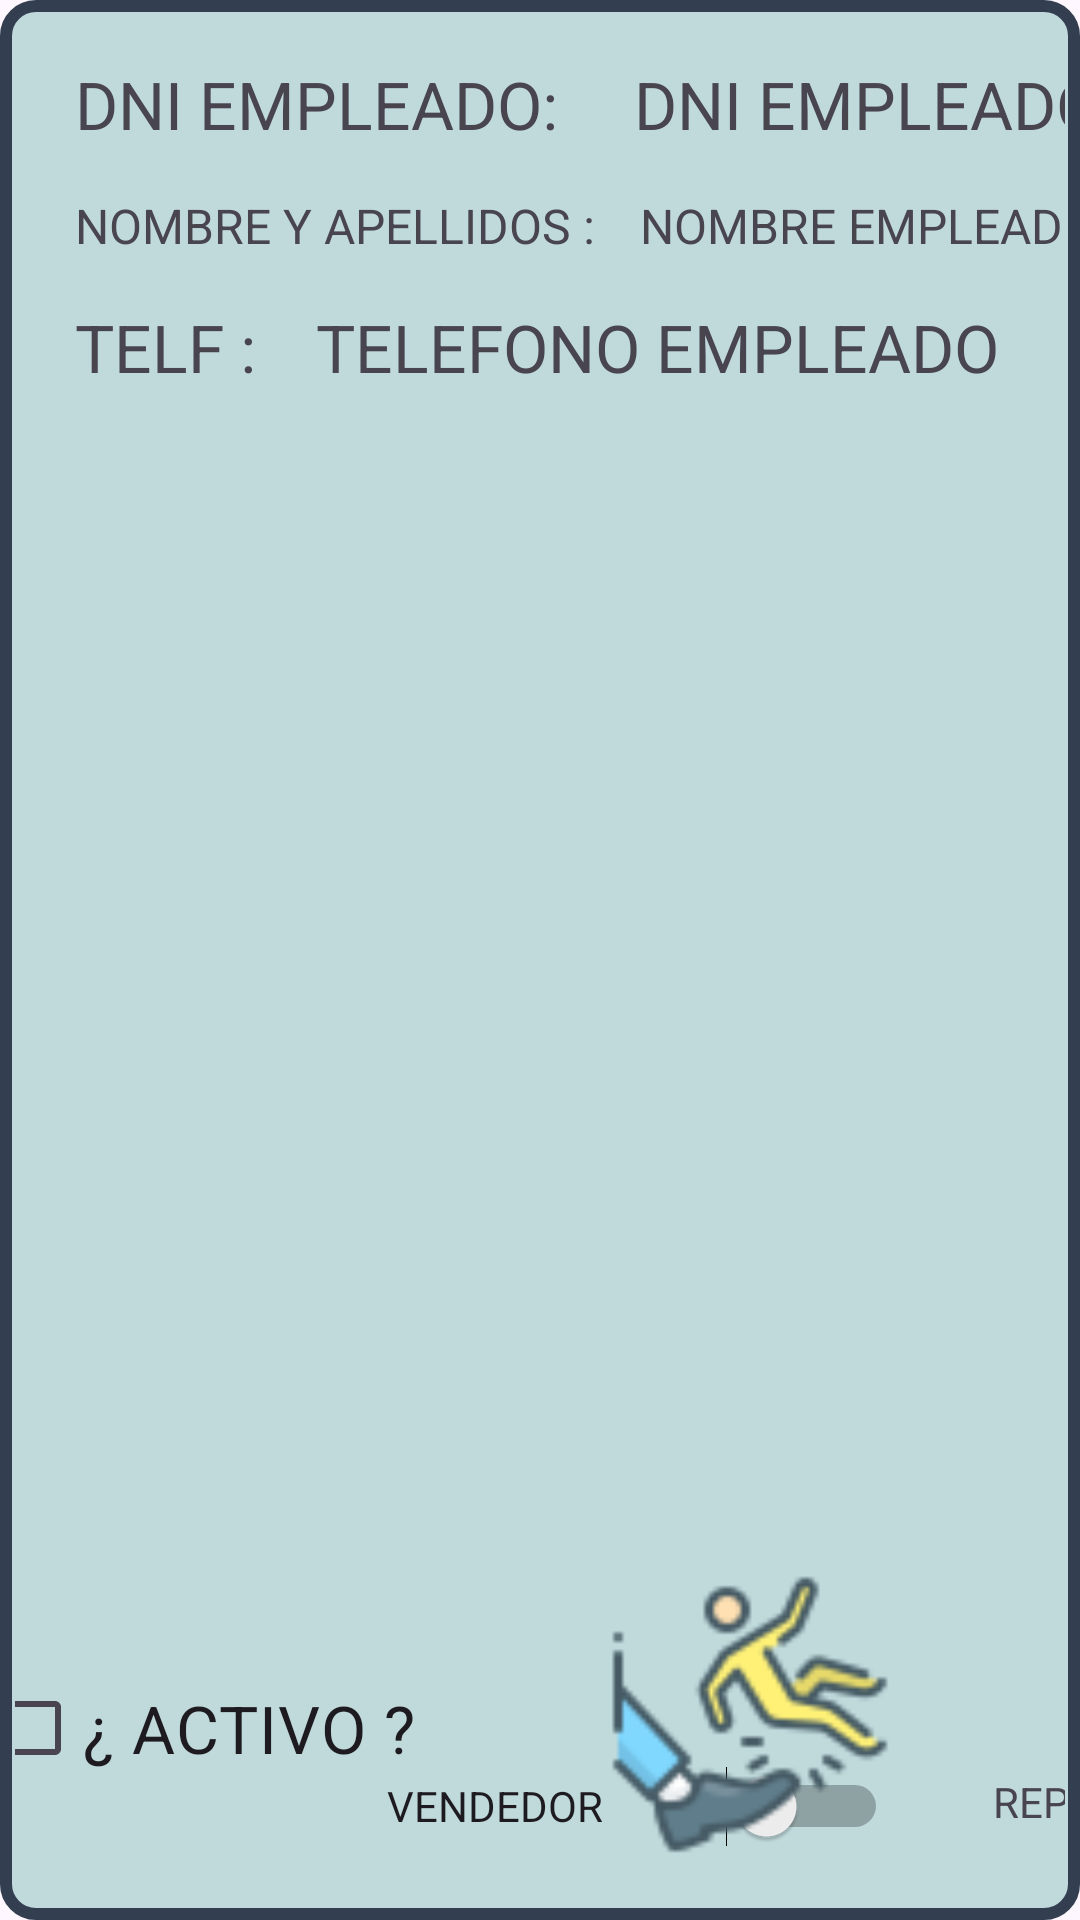

Screen size 1080 × 1920. Icon name, then its box in pixels as [x1=x1, y1=y1, x2=x2, y2=y2]:
despido: [x1=612, y1=1577, x2=888, y2=1852]
